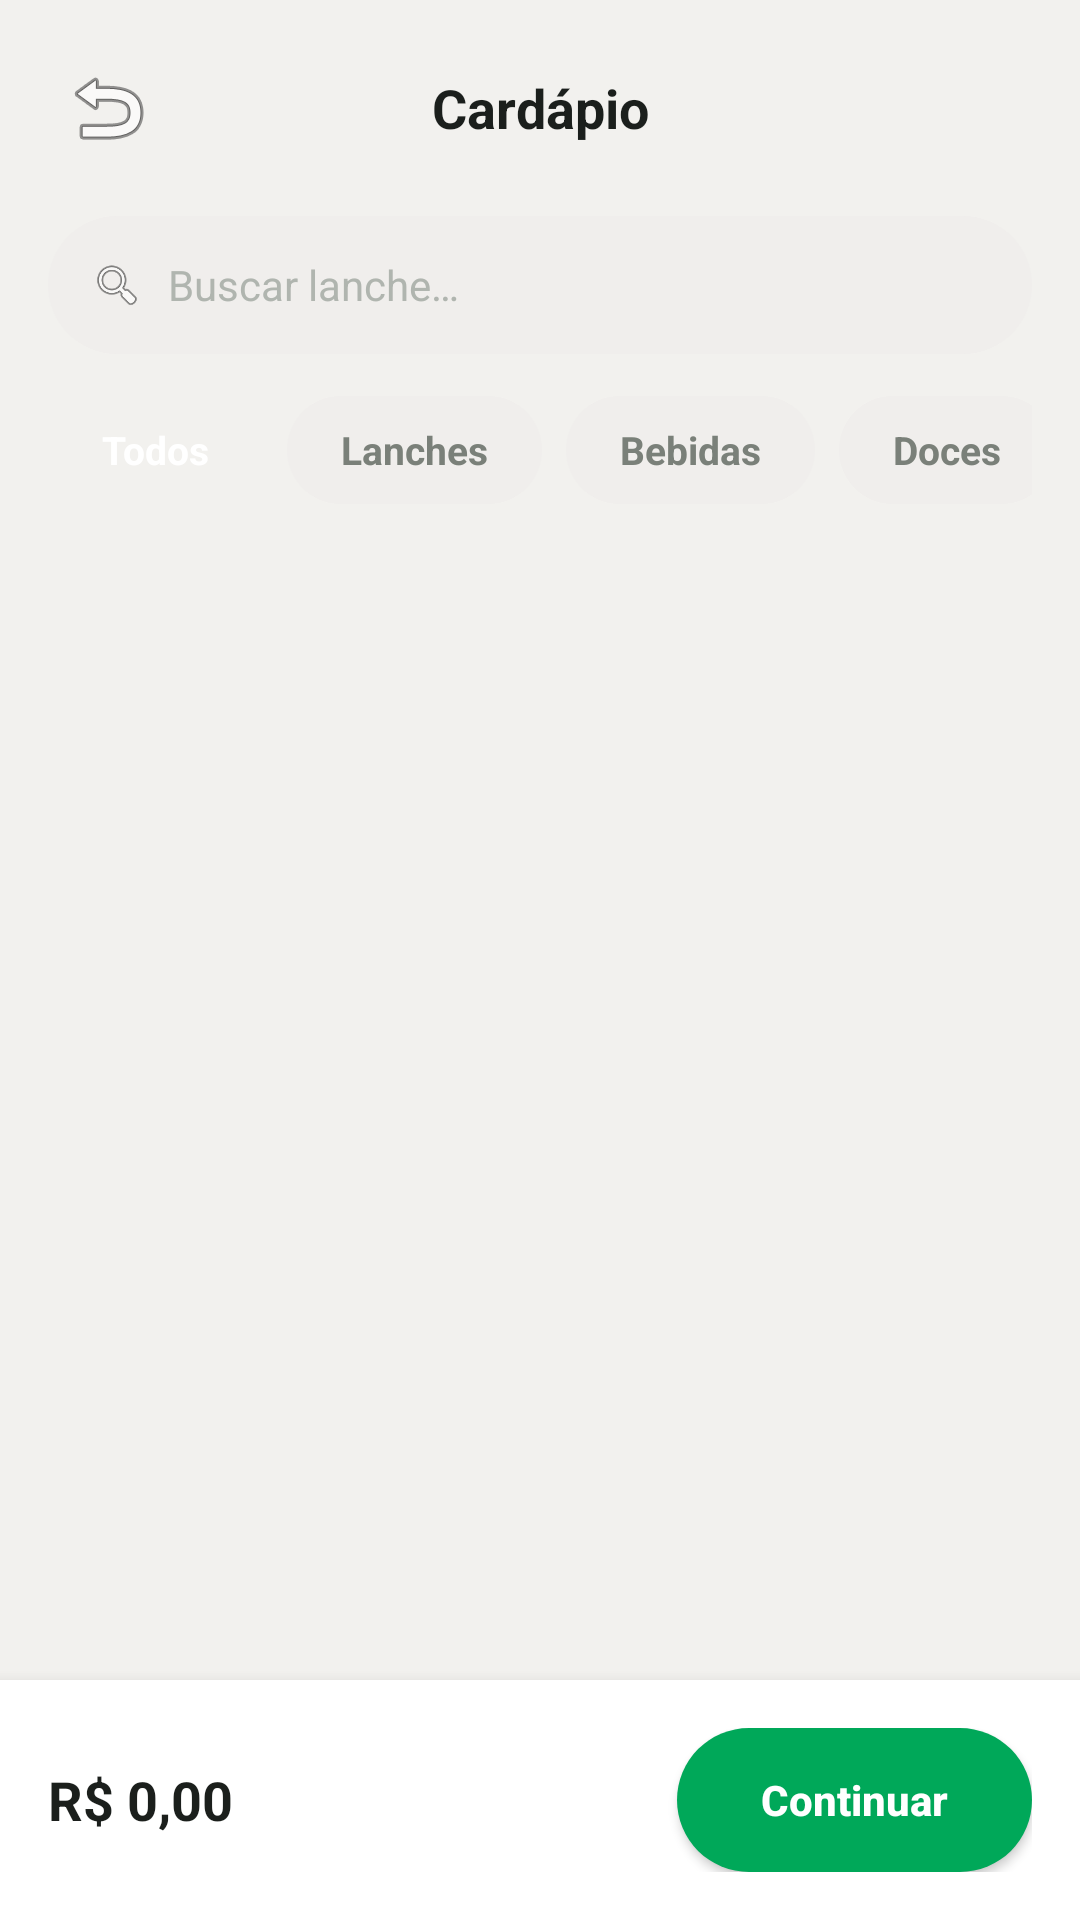

Named icons in this screenshot (1080w x 1920h) and their centers, (x,y):
Voltar: (109,108)
